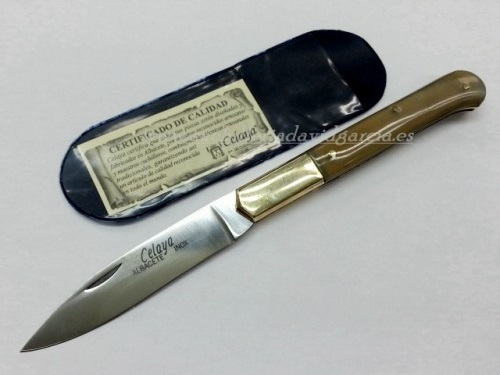knife: (13, 188, 260, 358)
